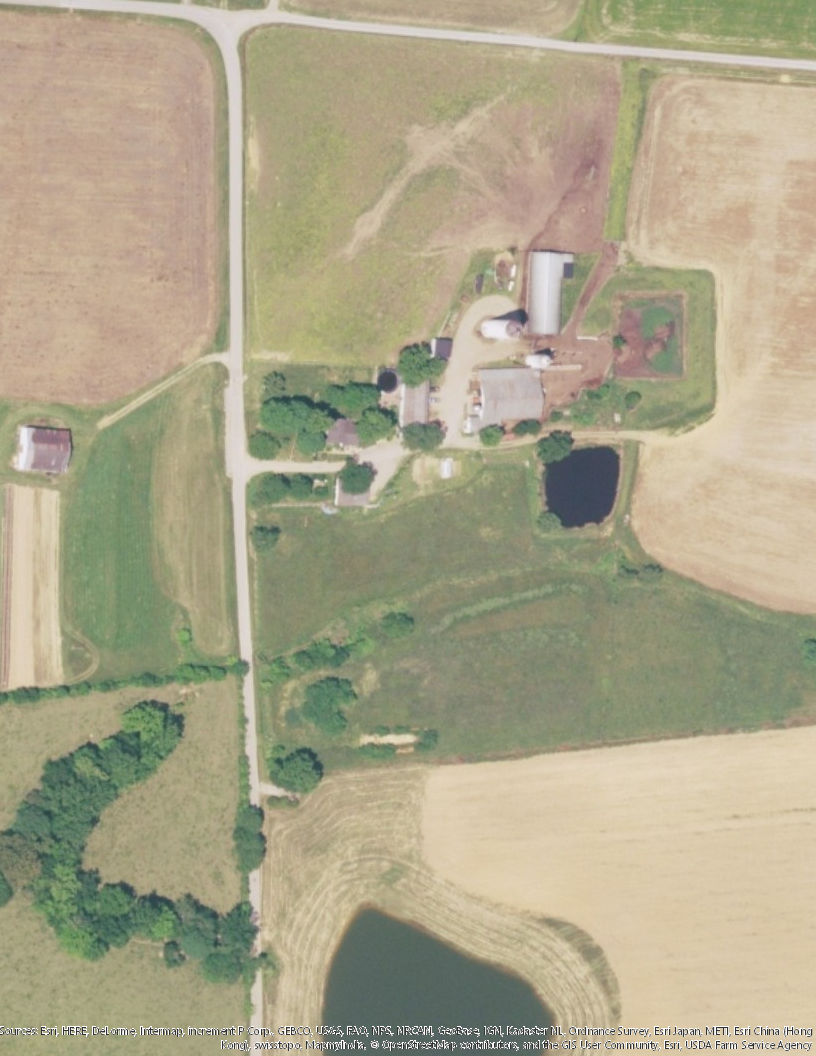cafo: (524, 245, 572, 341), (469, 368, 547, 425)
